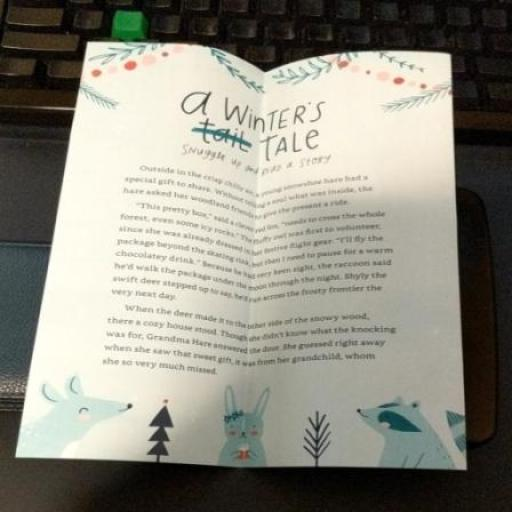paper: (9, 28, 512, 510)
